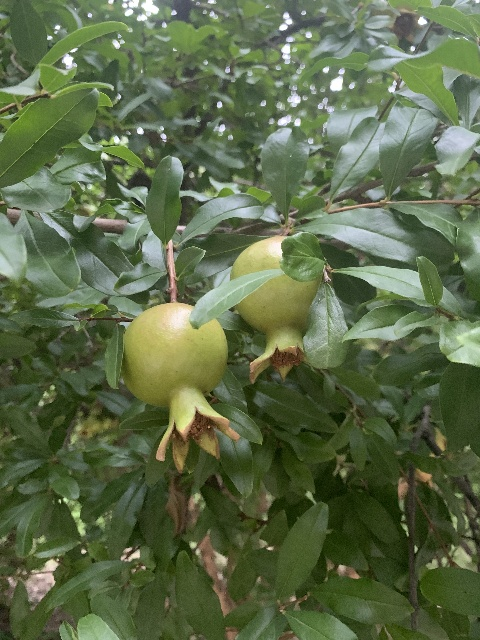mid-growth: (121, 302, 239, 472), (230, 236, 317, 384)
